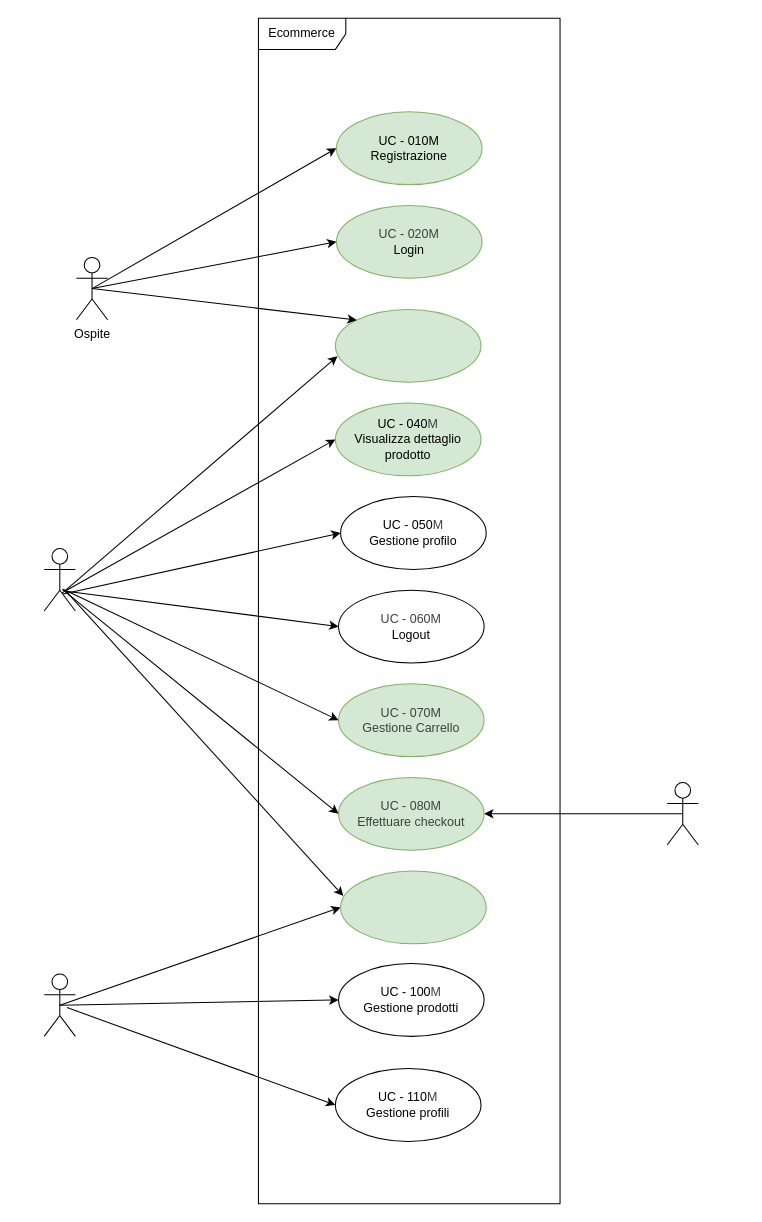
Image size: 762x1222. Some labels were removed from this diagram. Each missing label, with the centre of its shape:
Amministratore: the point at 59,1004
Cliente: the point at 59,579
Sistema di pagamento: the point at 682,813
UC - 030 M Visualizzare i prodotti: the point at 407,345
UC - 090 M Gestione ordinil: the point at 413,907
